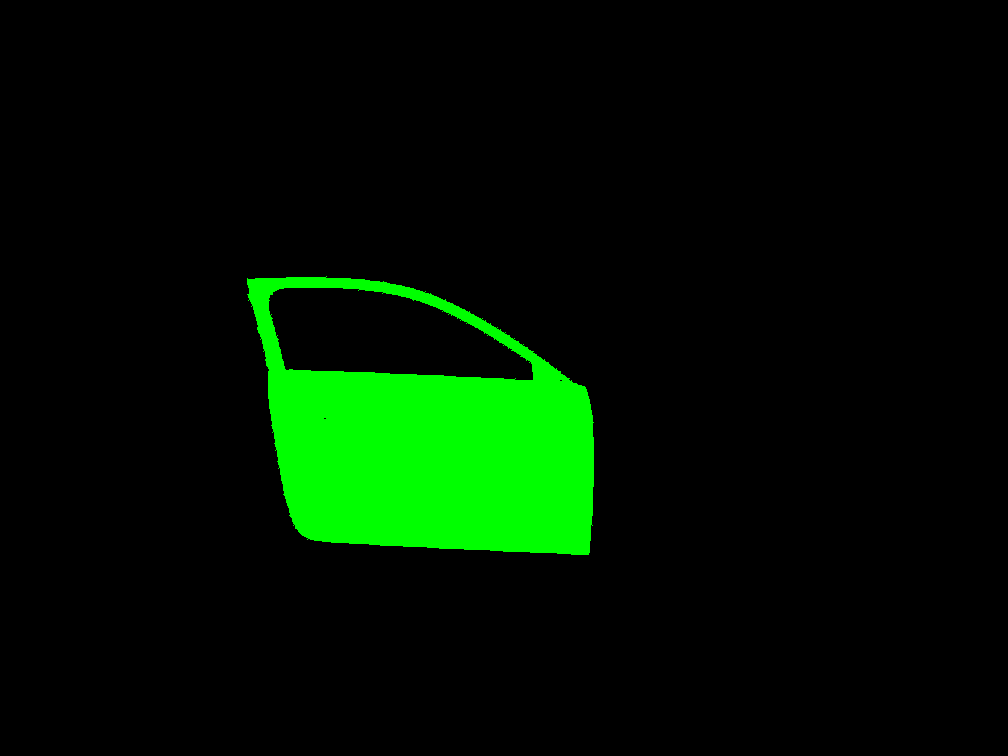car_door: (247, 276, 593, 554)
